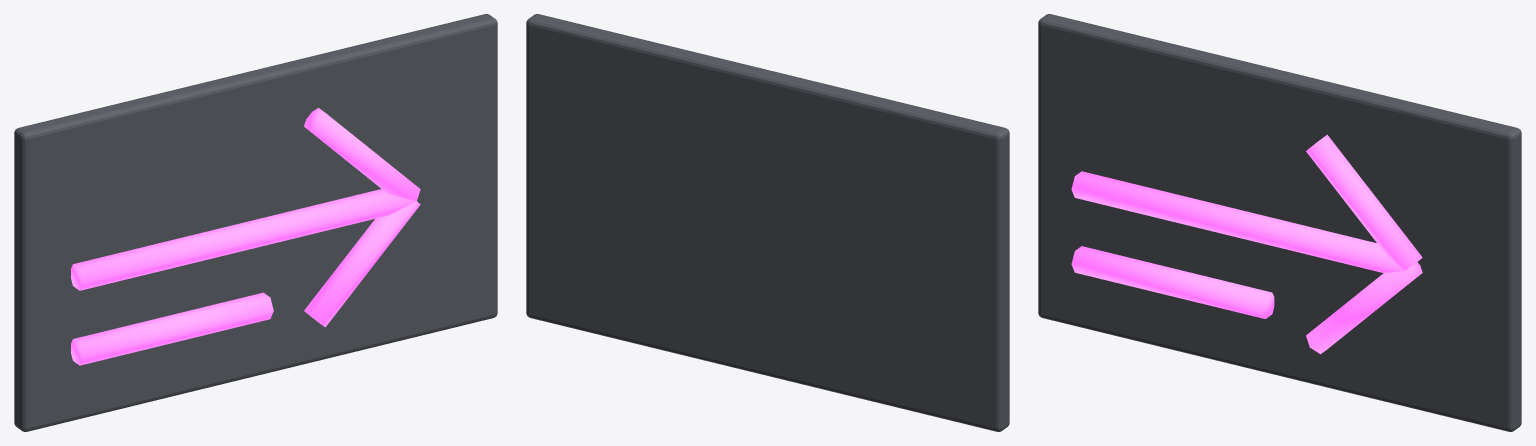
The model's file is neon_sign_arrow.glb.
3 views of the same model, side by side, from view 1: azimuth 30°, elevation 25°; view 2: azimuth 150°, elevation 25°; view 3: azimuth 330°, elevation 25° (orthographic).
Visible parts, largest first — view 1: GD_neon_sign_arrow__m0, GD_neon_sign_arrow__m1; view 2: GD_neon_sign_arrow__m0; view 3: GD_neon_sign_arrow__m0, GD_neon_sign_arrow__m1.
Part boxes in pixels (x1,y1,x2,y2): GD_neon_sign_arrow__m0: (14, 14, 497, 431); GD_neon_sign_arrow__m1: (71, 108, 420, 365); GD_neon_sign_arrow__m0: (526, 14, 1009, 431); GD_neon_sign_arrow__m0: (1038, 14, 1521, 431); GD_neon_sign_arrow__m1: (1071, 134, 1422, 354).
Bounding box in the file's own units: 1 × 0.6 × 0.085.
